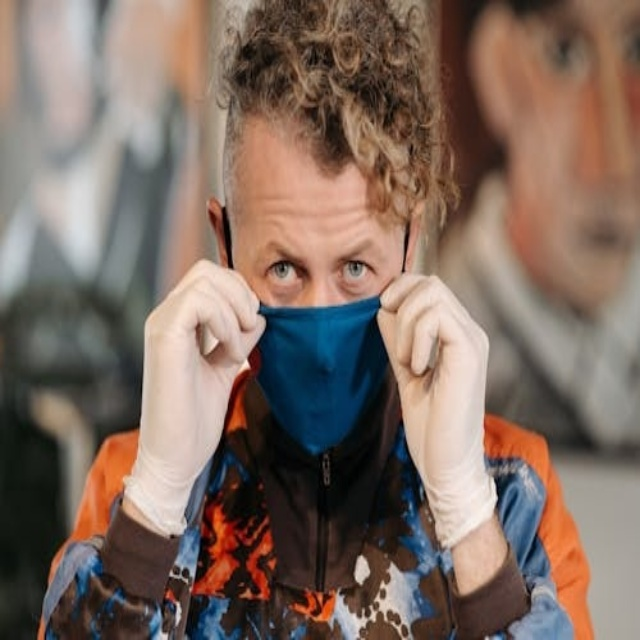Guantes: (124, 254, 267, 540), (375, 264, 495, 547)
Mascara: (259, 291, 381, 508)
Sin_gafas: (261, 238, 378, 297)
